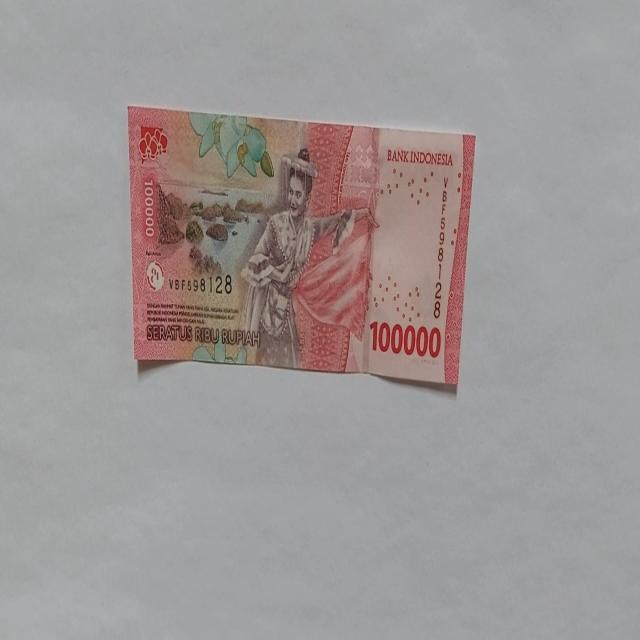seratus ribu rupiah: (126, 106, 478, 396), (238, 146, 376, 372)
